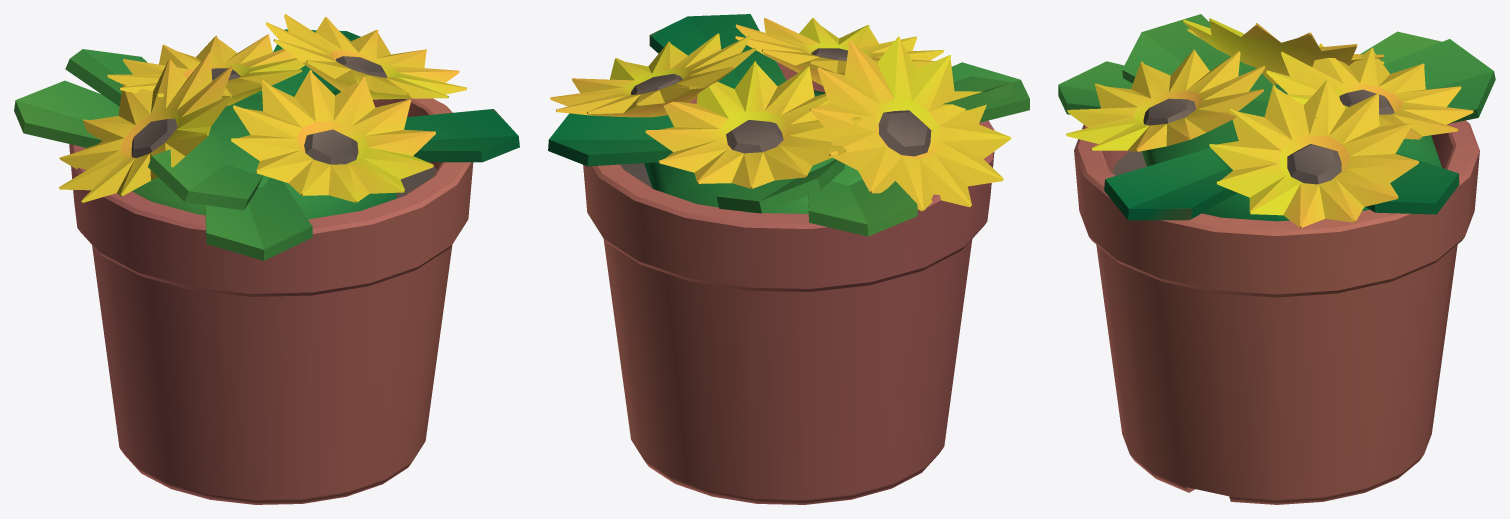
Rendered from FlowerPotYellow.fbx.
3 views of the same model, side by side, from view 1: azimuth 30°, elevation 25°; view 2: azimuth 150°, elevation 25°; view 3: azimuth 270°, elevation 25° (orthographic). The views are drawn at different scales.
Visible parts, largest first — view 1: FlowerPotYellow; view 2: FlowerPotYellow; view 3: FlowerPotYellow.
Boxes of the visible parts, left/top/right/bottom form: FlowerPotYellow: left=14, top=14, right=519, bottom=504; FlowerPotYellow: left=548, top=14, right=1029, bottom=504; FlowerPotYellow: left=1058, top=14, right=1495, bottom=504.
Size of the model in its own units: 0.6092 by 0.5751 by 0.5784.
